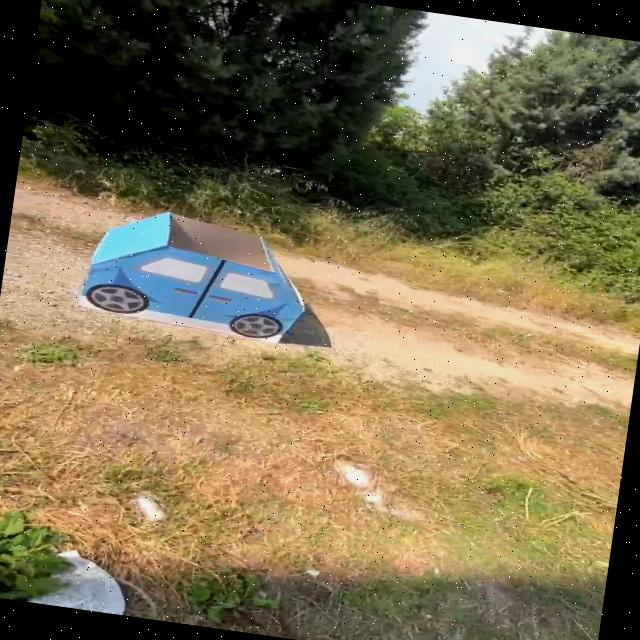blue_car: (49, 190, 339, 364)
